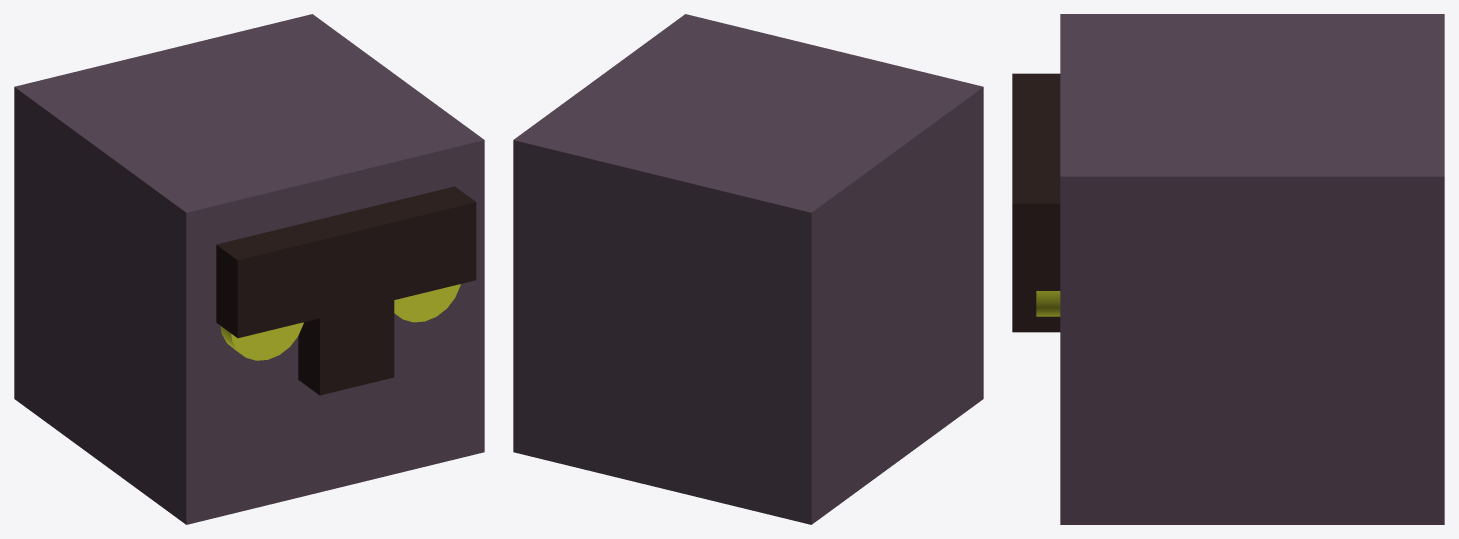
Rendered from moai.fbx.
The picture shows the model from 3 angles, left to right: view 1: azimuth 30°, elevation 25°; view 2: azimuth 150°, elevation 25°; view 3: azimuth 270°, elevation 25°; orthographic projection. The views are drawn at different scales.
Visible parts, largest first — view 1: moai, pCube2, pCube3, pCylinder2, pCylinder1; view 2: moai; view 3: moai, pCube2, pCube3, pCylinder1.
Part boxes in pixels (x1,y1,x2,y2): moai: [14, 14, 484, 524]; pCube2: [216, 186, 476, 338]; pCube3: [298, 300, 394, 395]; pCylinder2: [220, 322, 303, 360]; pCylinder1: [394, 284, 460, 322]; moai: [513, 14, 983, 524]; moai: [1060, 14, 1444, 524]; pCube2: [1012, 73, 1060, 290]; pCube3: [1012, 291, 1060, 332]; pCylinder1: [1036, 291, 1060, 316].
Size of the model in its own units: 1 by 1 by 1.12.
